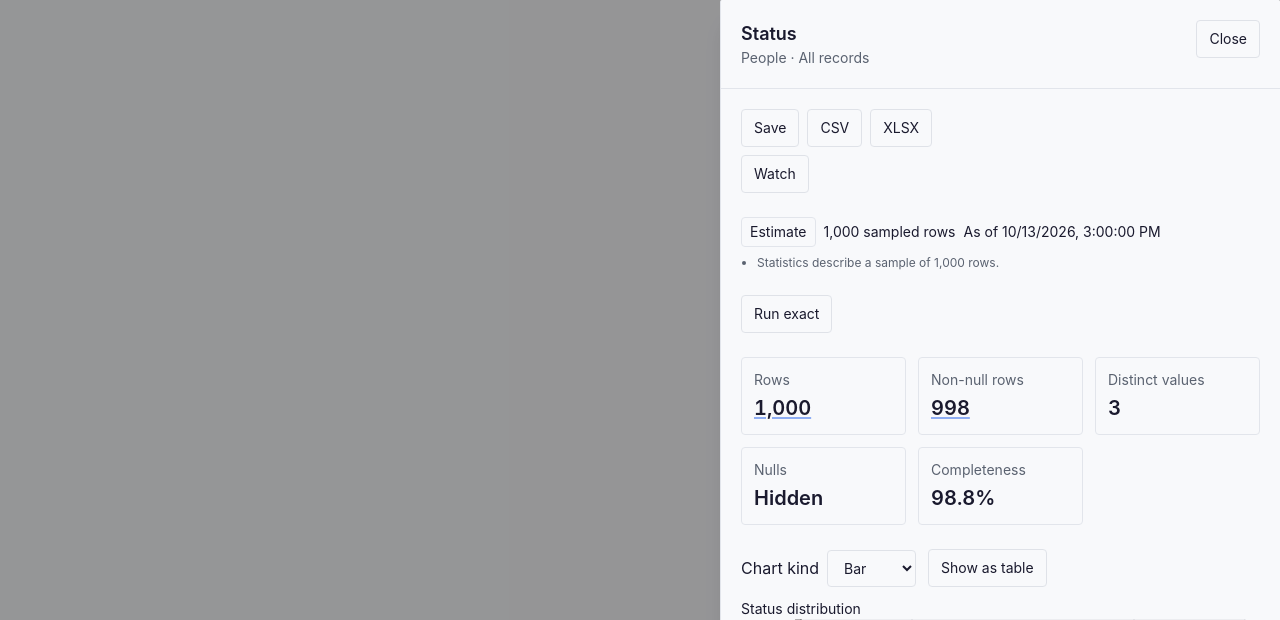
column profile › stops on FAILED and on unmount
The width and height of the screenshot is (1280, 620).
Click the button "Run exact".
click(787, 314)  # box [741,295,832,333]
Wait 5000 ms
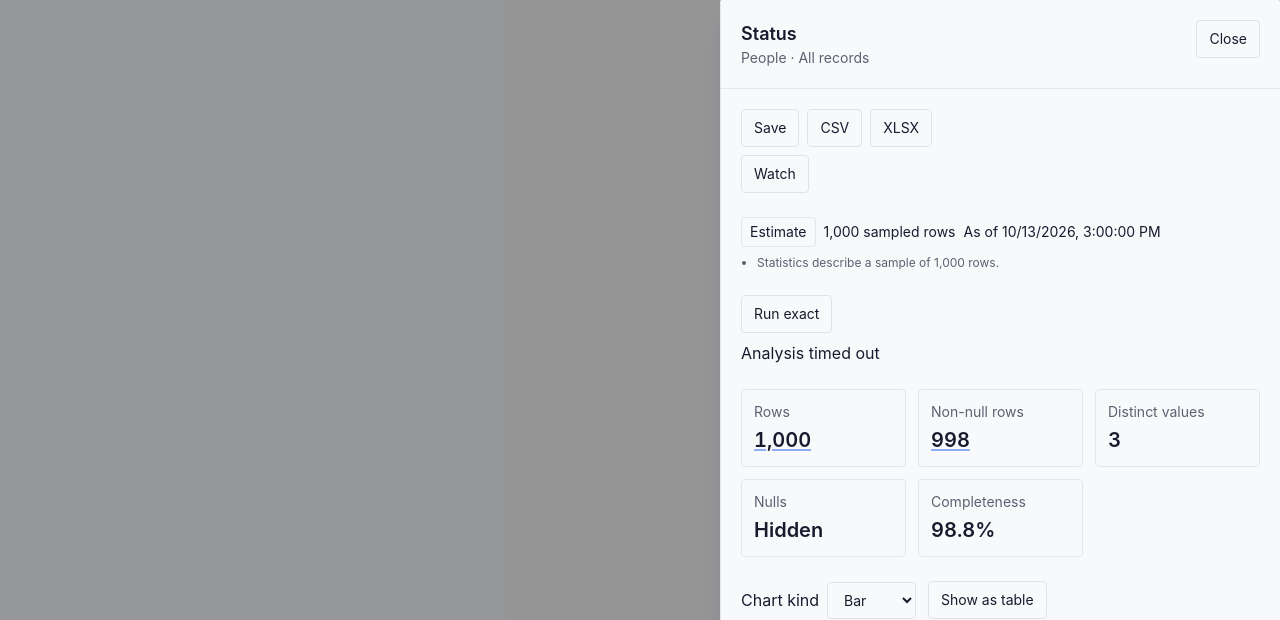
Check: the message reads "Analysis timed out", box [741,343,880,363]
